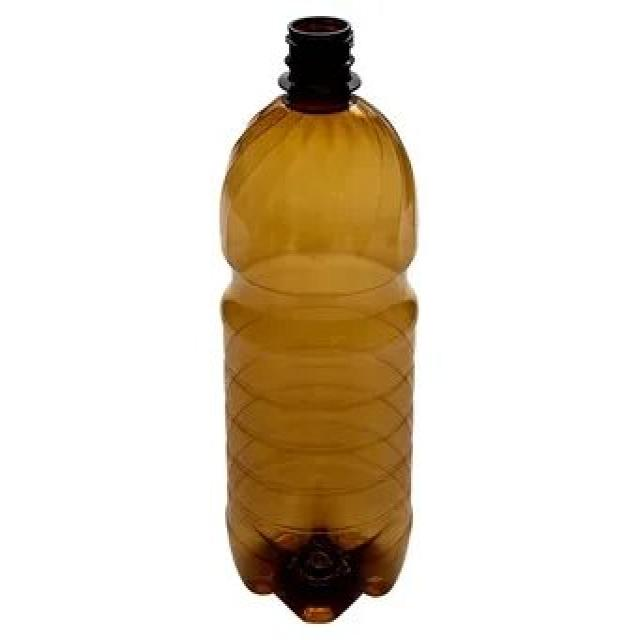brown: (217, 15, 416, 622)
